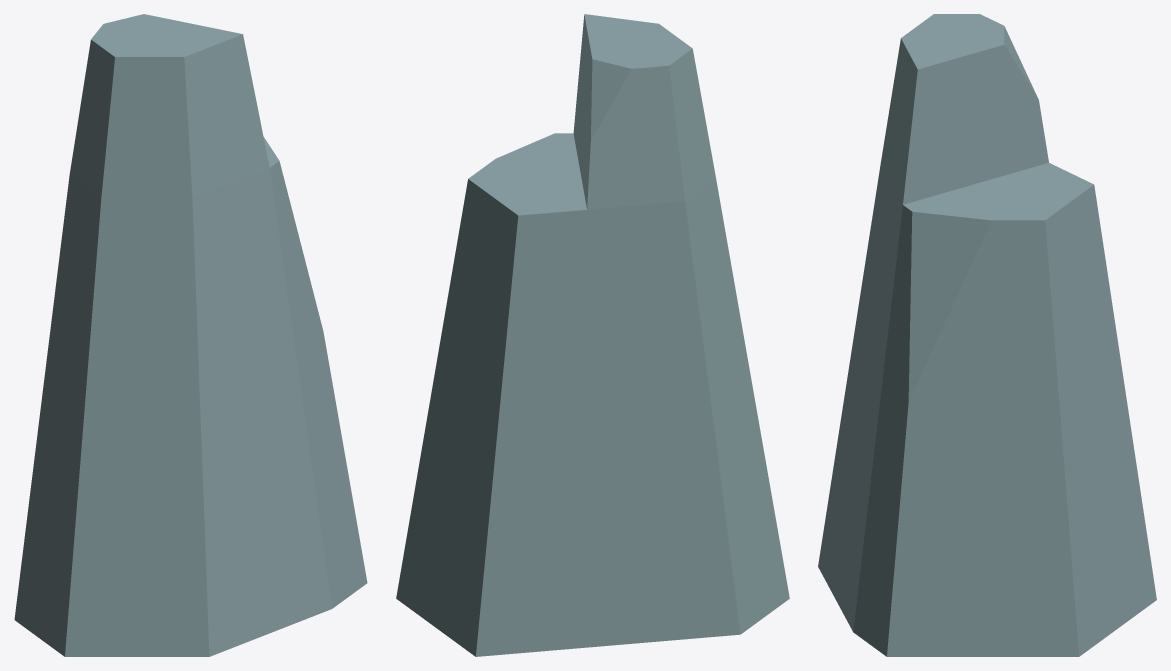
The model's file is stone_tallI.glb.
3 renders of one model, left to right at view 1: azimuth 30°, elevation 25°; view 2: azimuth 150°, elevation 25°; view 3: azimuth 270°, elevation 25°, orthographic. The views are drawn at different scales.
Visible parts, largest first — view 1: stone_tallI; view 2: stone_tallI; view 3: stone_tallI.
Part boxes in pixels (x1,y1,x2,y2): stone_tallI: (14, 14, 367, 656); stone_tallI: (396, 14, 789, 656); stone_tallI: (818, 14, 1156, 656).
Bounding box in the file's own units: 0.4562 × 0.8118 × 0.4644.
